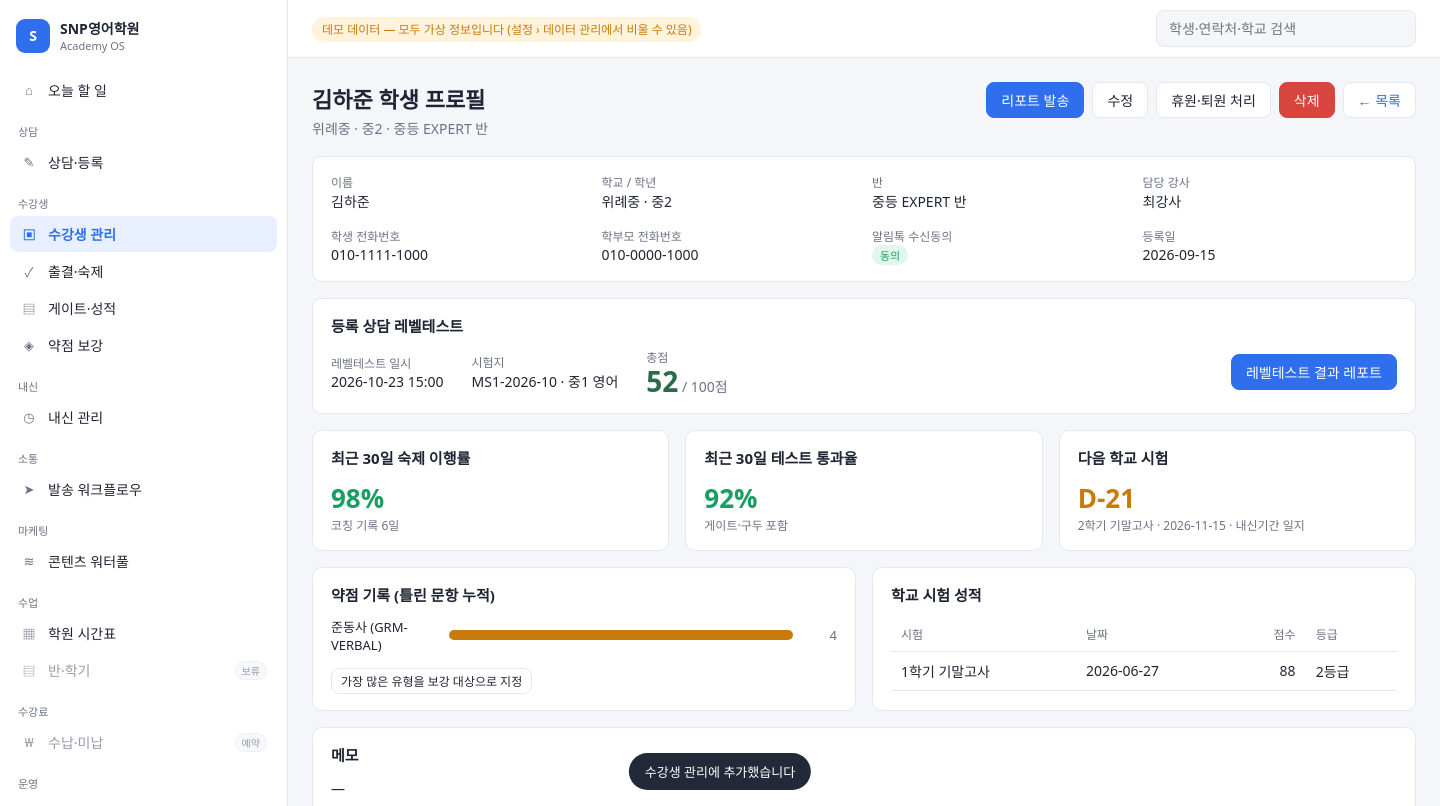
Test: 수강생·코칭 › 프로필에서 레벨테스트 리포트 열기
Click the button "레벨테스트 결과 레포트": (1314, 372) [1231,354,1397,390]
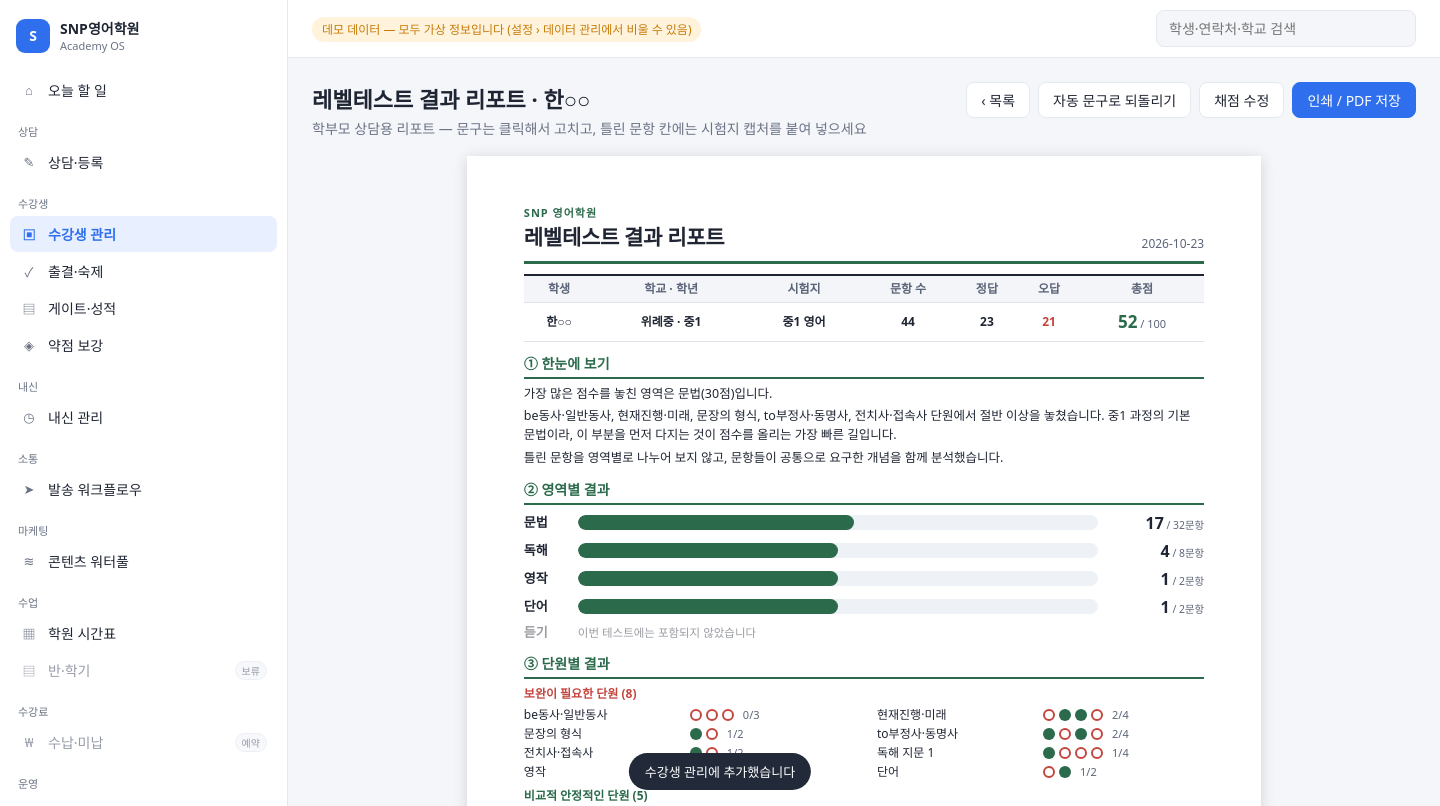
Expected: the text "레벨테스트 결과 리포트 · 한○○" is shown, [312,84,590,114]
Click the button "‹ 목록": (998, 100) [966,82,1030,118]
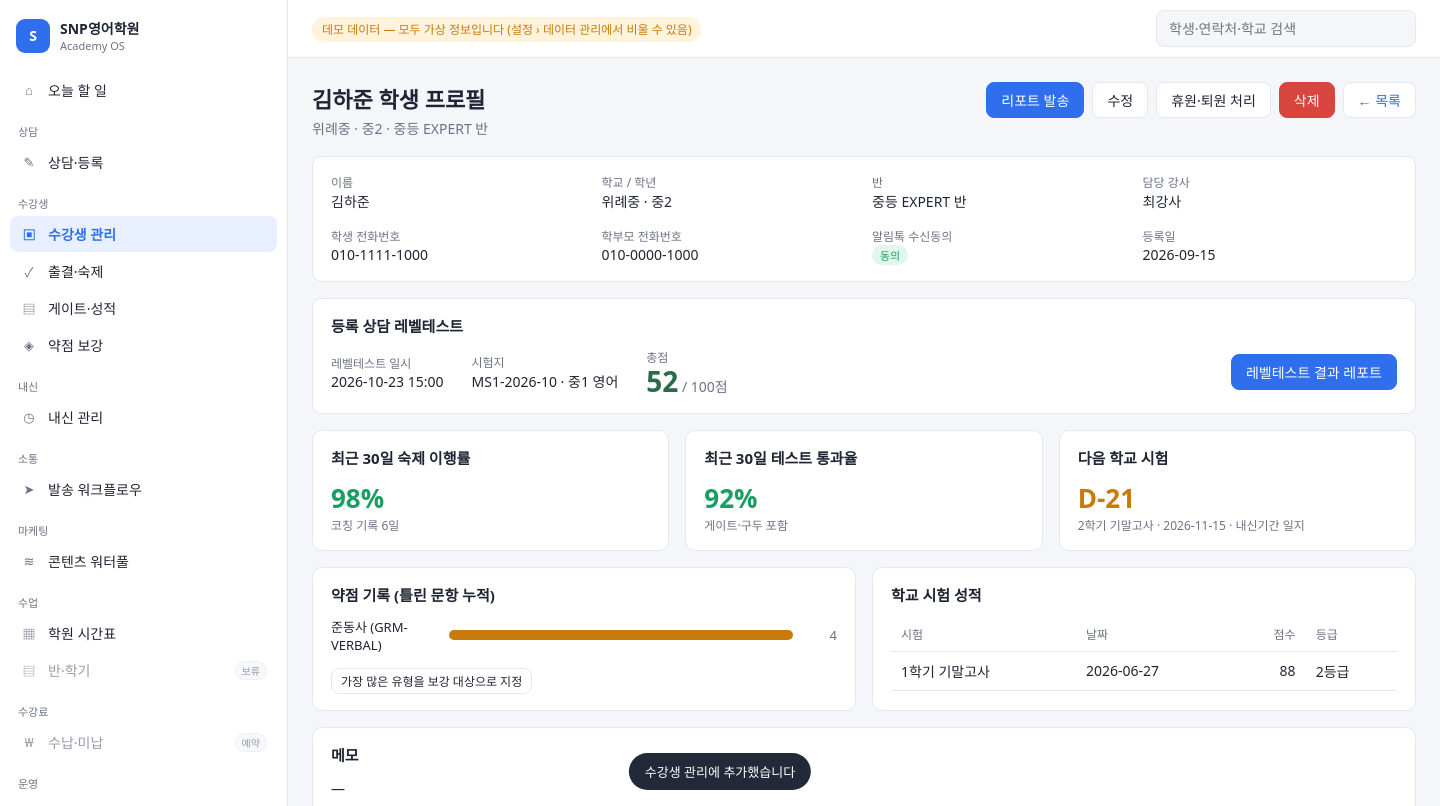
Expected: the text "김하준 학생 프로필" is shown, [312,82,488,114]
